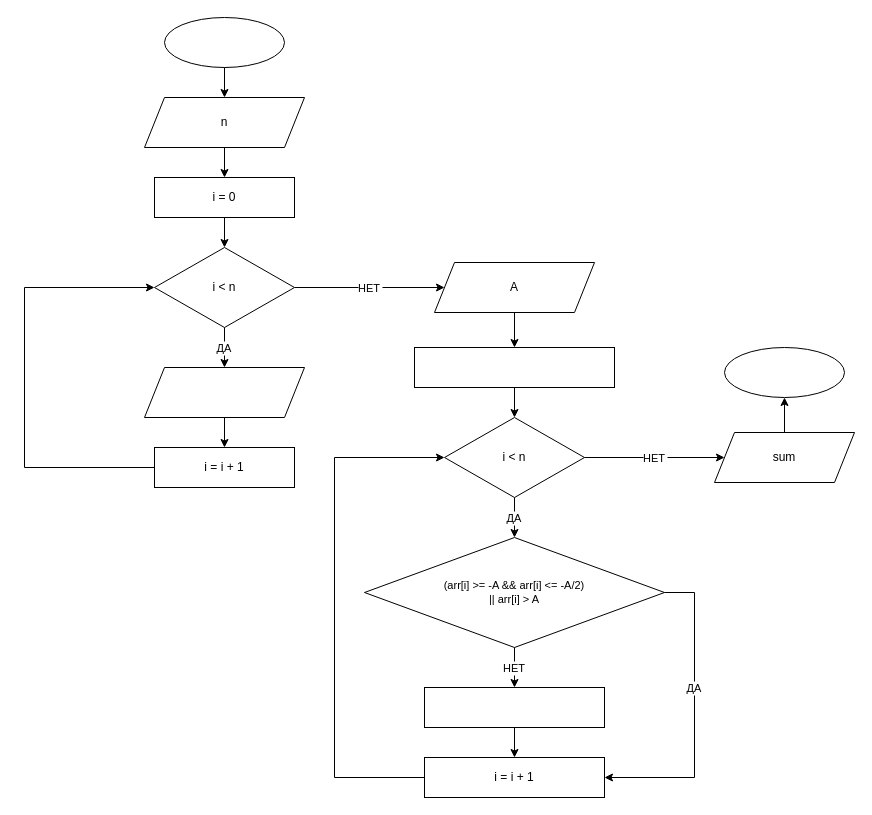
This 872x815 diagram has some shape labels left out. The box of each missing label's shape, as (x1, y1, x2, y2) in pixels:
arr[i]: (144, 366, 304, 418)
sum = 0, i = 0: (414, 346, 614, 388)
sum = sum + arr[i]: (424, 686, 604, 728)
Конец: (724, 346, 844, 398)
Начало: (164, 16, 284, 68)
